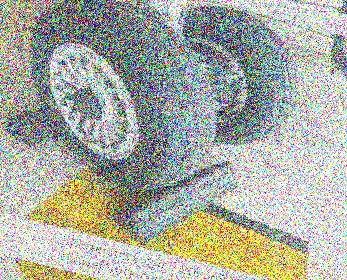chock: (107, 136, 246, 265), (0, 91, 92, 159)
wheel: (0, 0, 231, 201), (151, 0, 312, 159)
